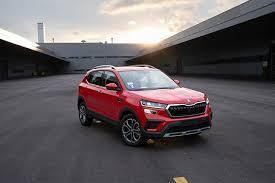skoda: (184, 96, 193, 104)
